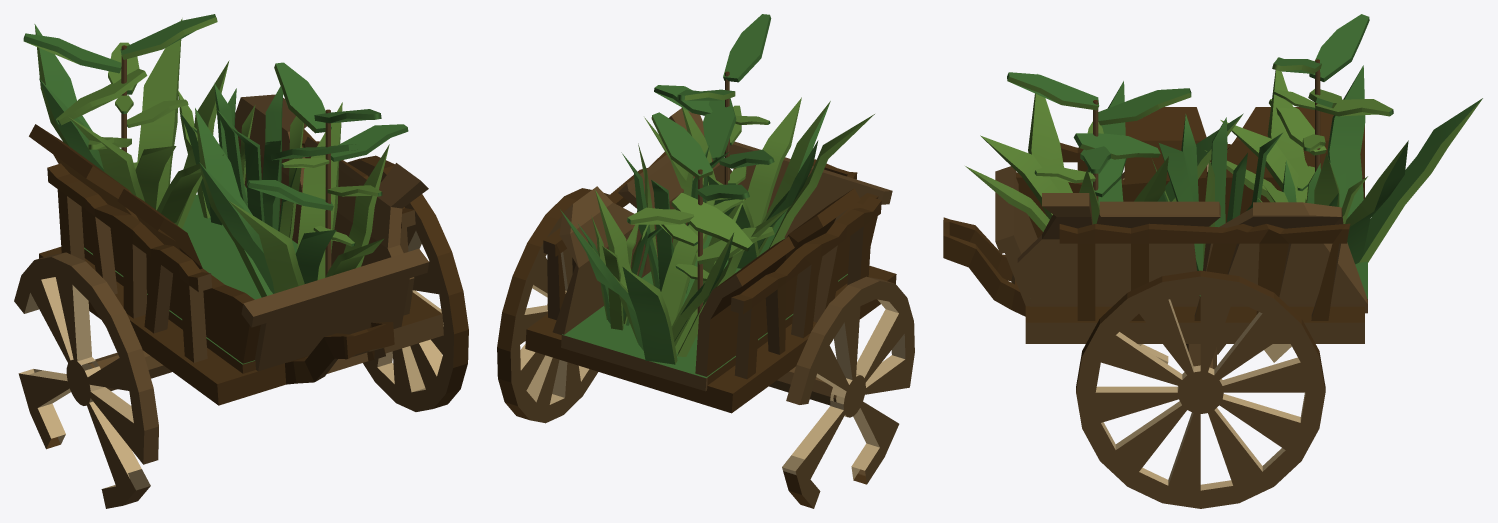
File: Broken kart with plants.fbx
The picture shows the model from 3 angles, left to right: view 1: azimuth 30°, elevation 25°; view 2: azimuth 150°, elevation 25°; view 3: azimuth 270°, elevation 25°; orthographic projection. The views are drawn at different scales.
Parts seen in each view (by area): view 1: pCube12; view 2: pCube12; view 3: pCube12.
Boxes of the visible parts, box(x1,y1,x2,y2) form: pCube12: box(14, 14, 468, 508); pCube12: box(497, 14, 914, 508); pCube12: box(943, 14, 1482, 508).
Bounding box in the file's own units: 148 × 170 × 214.
Materials: 1 (1 with a texture image).
